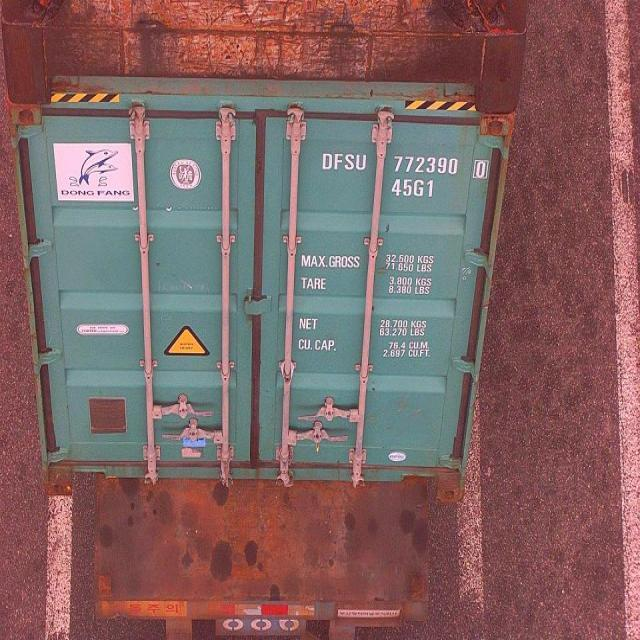ISO: (389, 176, 437, 204)
container_number: (322, 154, 488, 177)
